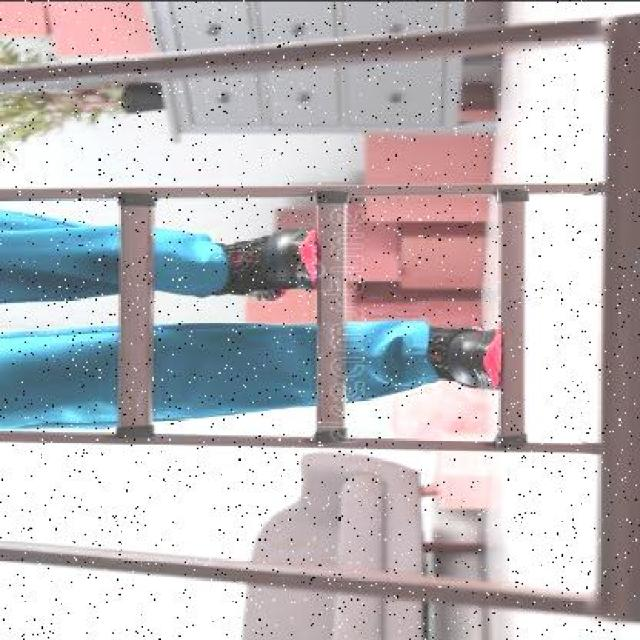shoes: (225, 226, 317, 300), (422, 324, 506, 388)
